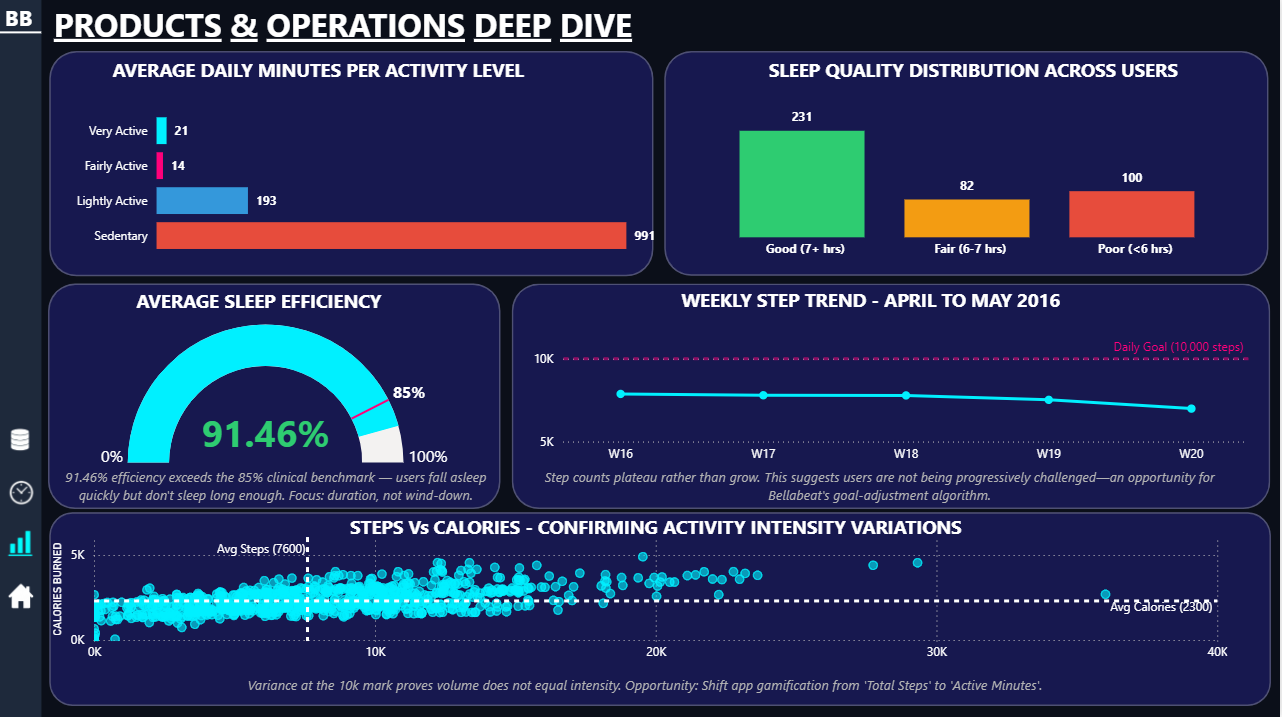

This screenshot's page, from the dashboard's own definition file:
{"tool":"powerbi","page":{"name":"Manager View","canvas":[1280,720],"ordinal":1},"visuals":[{"type":"textbox","box":[0,0,42.5,47.5],"z":0,"group":"g5"},{"type":"shape","box":[0,0,41.4,720],"z":0,"group":"g3"},{"type":"group","id":"g1","title":"Group 1","box":[47,0,1225,708.4],"z":0},{"type":"shape","box":[663.1,53.1,605.2,225.9],"z":0,"group":"g4"},{"type":"shape","box":[48.2,53.5,605.2,226.4],"z":0,"group":"g2"},{"type":"group","id":"g2","title":"KPI 1","box":[48.2,53.5,683.7,226.4],"z":0,"group":"g6"},{"type":"shape","box":[47.5,284.4,453.5,226.7],"z":0,"group":"g1"},{"type":"group","id":"g3","title":"Group 7","box":[0,0,41.4,720],"z":1000},{"type":"textbox","title":"Heading","box":[48,0,606.3,53],"z":1000,"group":"g1"},{"type":"shape","box":[0,16,41.2,36.2],"z":1000,"group":"g5"},{"type":"group","id":"g4","title":"KPI 2","box":[663.1,53.1,608.9,225.9],"z":1000,"group":"g6"},{"type":"textbox","box":[763.6,54.1,443.9,37],"z":1000,"group":"g4"},{"type":"clusteredBarChart","title":"Average Daily Minutes per Activity Level","fields":{"Category":["ActivityCategories.Level"],"Y":["_Total_measures.Average Activity Minutes"]},"box":[63,94.1,668.9,178.8],"z":1000,"group":"g2"},{"type":"actionButton","box":[0,574,41,49],"z":1000,"group":"g3"},{"type":"group","id":"g5","title":"Group 2","box":[0,0,42.5,52.2],"z":2000},{"type":"group","id":"g6","title":"1ST LAYER","box":[48.2,53.1,1223.8,226.8],"z":2000,"group":"g1"},{"type":"textbox","box":[107.4,54.9,443.9,37.5],"z":2000,"group":"g2"},{"type":"clusteredColumnChart","fields":{"Category":["Sleep.SleepQuality"],"Y":["CountNonNull(Sleep.Id)"]},"box":[668.2,94.7,603.8,175.8],"z":2000,"group":"g4"},{"type":"actionButton","box":[0,521.7,41.4,48.6],"z":2000,"group":"g3"},{"type":"textbox","box":[130.2,284.4,260.3,37.8],"z":3000,"group":"g1"},{"type":"actionButton","box":[0,469.4,41.4,48.6],"z":3000,"group":"g3"},{"type":"gauge","title":"AVERAGE SLEEP EFFICIENCY","fields":{"TargetValue":["_Total_measures.Target Efficiency"],"Y":["_Total_measures.Sleep Efficiency"]},"box":[91.1,313.3,366.4,168.9],"z":4000,"group":"g1"},{"type":"actionButton","box":[0,417.1,41.4,48.6],"z":4000,"group":"g3"},{"type":"textbox","box":[51,464.4,448,48.9],"z":5000,"group":"g1"},{"type":"shape","box":[511.1,284.4,759.6,226.7],"z":6000,"group":"g1"},{"type":"textbox","box":[676.1,284.2,411.9,37.5],"z":7000,"group":"g1"},{"type":"lineChart","title":"WEEKLY SLEEP TREND - APRIL TO MAY 2016","fields":{"Category":["MasterCalendar.WeekNumber"],"Y":["_Total_measures.Average Daily Steps"]},"box":[527.9,313.3,725,160],"z":8000,"group":"g1"},{"type":"textbox","box":[510.7,464.6,736.8,49.1],"z":9000,"group":"g1"},{"type":"shape","box":[48,513.6,1222.7,194.8],"z":10000,"group":"g1"},{"type":"scatterChart","fields":{"Category":["Activity.Id","Activity.ActivityDate"],"X":["Sum(Activity.TotalSteps)"],"Y":["Sum(Activity.Calories)"]},"box":[47,526,1185,146],"z":11000,"group":"g1"},{"type":"textbox","box":[343.9,510.7,632.4,37.5],"z":12000,"group":"g1"},{"type":"textbox","box":[242.4,672.3,835.5,36.1],"z":13000,"group":"g1"}]}

Visuals, with their boxes on the page's 1280x720 design canvas (x1, y1, x2, y2). These are canvas units, not pixel positions in the 1282x717 screenshot, which may show the page scaled, cropped or inside an application window:
textbox: {"x1": 0, "y1": 0, "x2": 42, "y2": 48}
shape: {"x1": 0, "y1": 0, "x2": 41, "y2": 720}
"Group 1" group: {"x1": 47, "y1": 0, "x2": 1272, "y2": 708}
shape: {"x1": 663, "y1": 53, "x2": 1268, "y2": 279}
shape: {"x1": 48, "y1": 54, "x2": 653, "y2": 280}
"KPI 1" group: {"x1": 48, "y1": 54, "x2": 732, "y2": 280}
shape: {"x1": 48, "y1": 284, "x2": 501, "y2": 511}
"Group 7" group: {"x1": 0, "y1": 0, "x2": 41, "y2": 720}
"Heading" textbox: {"x1": 48, "y1": 0, "x2": 654, "y2": 53}
shape: {"x1": 0, "y1": 16, "x2": 41, "y2": 52}
"KPI 2" group: {"x1": 663, "y1": 53, "x2": 1272, "y2": 279}
textbox: {"x1": 764, "y1": 54, "x2": 1208, "y2": 91}
"Average Daily Minutes per Activity Level" clusteredBarChart: {"x1": 63, "y1": 94, "x2": 732, "y2": 273}
actionButton: {"x1": 0, "y1": 574, "x2": 41, "y2": 623}
"Group 2" group: {"x1": 0, "y1": 0, "x2": 42, "y2": 52}
"1ST LAYER" group: {"x1": 48, "y1": 53, "x2": 1272, "y2": 280}
textbox: {"x1": 107, "y1": 55, "x2": 551, "y2": 92}
clusteredColumnChart - Sleep.SleepQuality x CountNonNull(Sleep.Id): {"x1": 668, "y1": 95, "x2": 1272, "y2": 270}
actionButton: {"x1": 0, "y1": 522, "x2": 41, "y2": 570}
textbox: {"x1": 130, "y1": 284, "x2": 390, "y2": 322}
actionButton: {"x1": 0, "y1": 469, "x2": 41, "y2": 518}
"AVERAGE SLEEP EFFICIENCY" gauge: {"x1": 91, "y1": 313, "x2": 458, "y2": 482}
actionButton: {"x1": 0, "y1": 417, "x2": 41, "y2": 466}
textbox: {"x1": 51, "y1": 464, "x2": 499, "y2": 513}
shape: {"x1": 511, "y1": 284, "x2": 1271, "y2": 511}
textbox: {"x1": 676, "y1": 284, "x2": 1088, "y2": 322}
"WEEKLY SLEEP TREND - APRIL TO MAY 2016" lineChart: {"x1": 528, "y1": 313, "x2": 1253, "y2": 473}
textbox: {"x1": 511, "y1": 465, "x2": 1248, "y2": 514}
shape: {"x1": 48, "y1": 514, "x2": 1271, "y2": 708}
scatterChart - Activity.Id x Activity.ActivityDate: {"x1": 47, "y1": 526, "x2": 1232, "y2": 672}
textbox: {"x1": 344, "y1": 511, "x2": 976, "y2": 548}
textbox: {"x1": 242, "y1": 672, "x2": 1078, "y2": 708}
